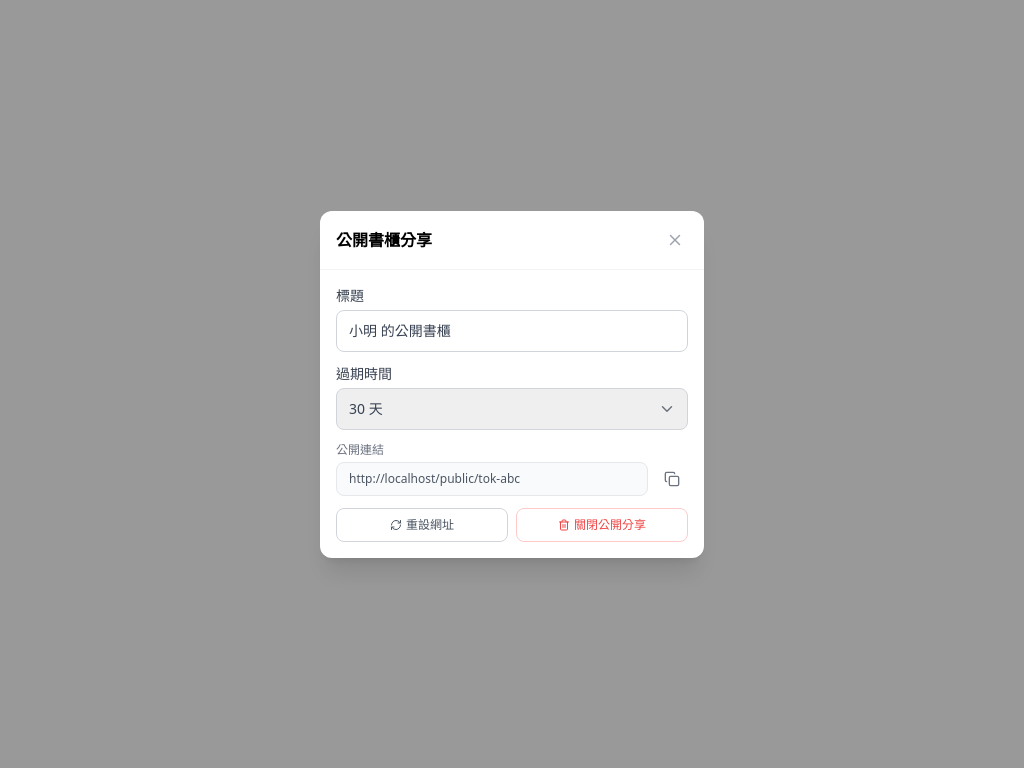
Scenario: PublicShareDialog · refused writes never advance the UI › revoking the public link › keeps the active shelf on screen when the server refuses the revocation
This screenshot has width=1024, height=768.
Click the button "關閉公開分享". click: [602, 524]
box: 516,508 -> 688,542
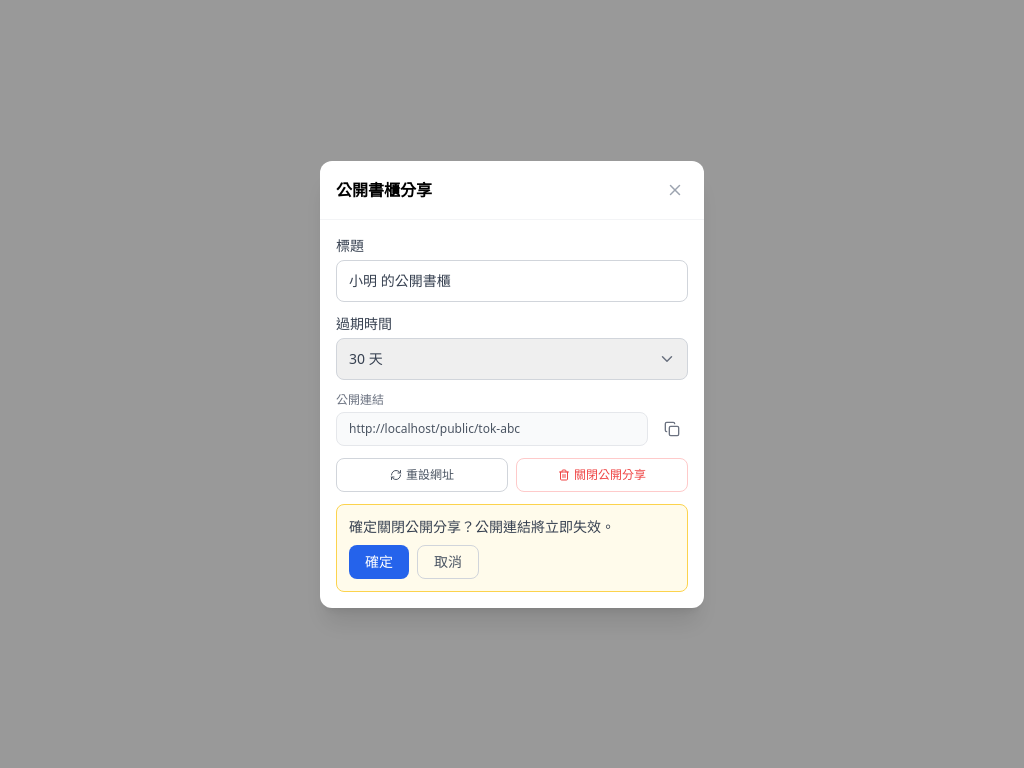
Click the button "確定". click: [379, 562]
box: 349,544 -> 409,578
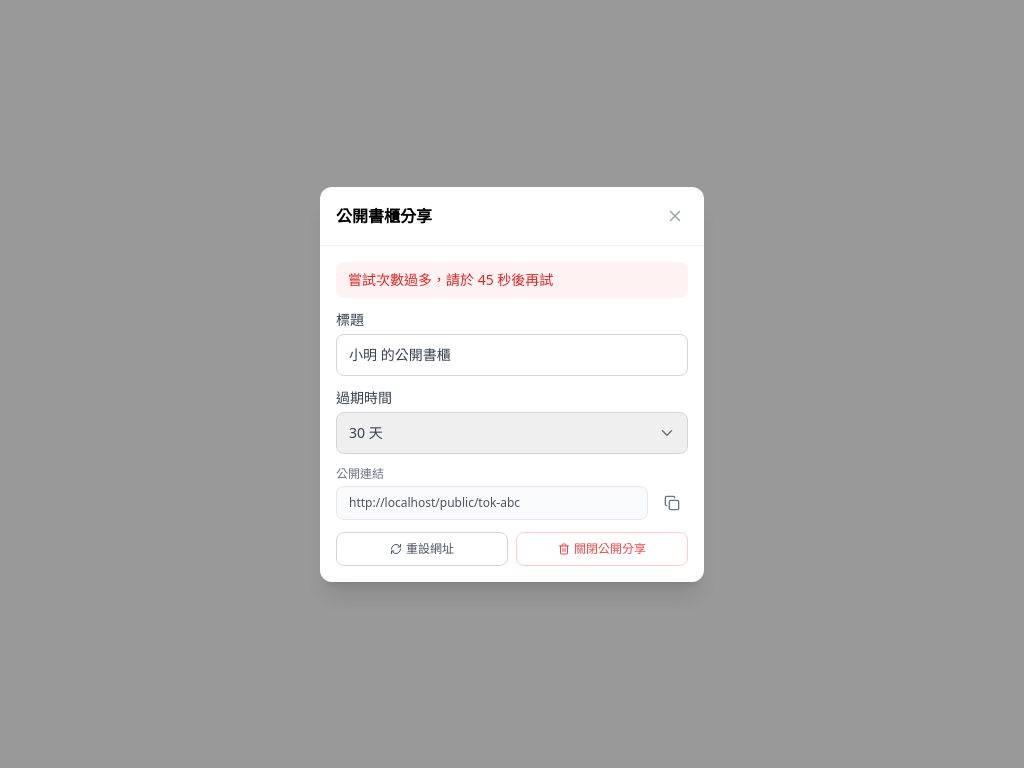
Expected: the button "關閉公開分享" is shown, 516,532 -> 688,566
Expected: the message reads "嘗試次數過多，請於 45 秒後再試", 348,270 -> 553,288
